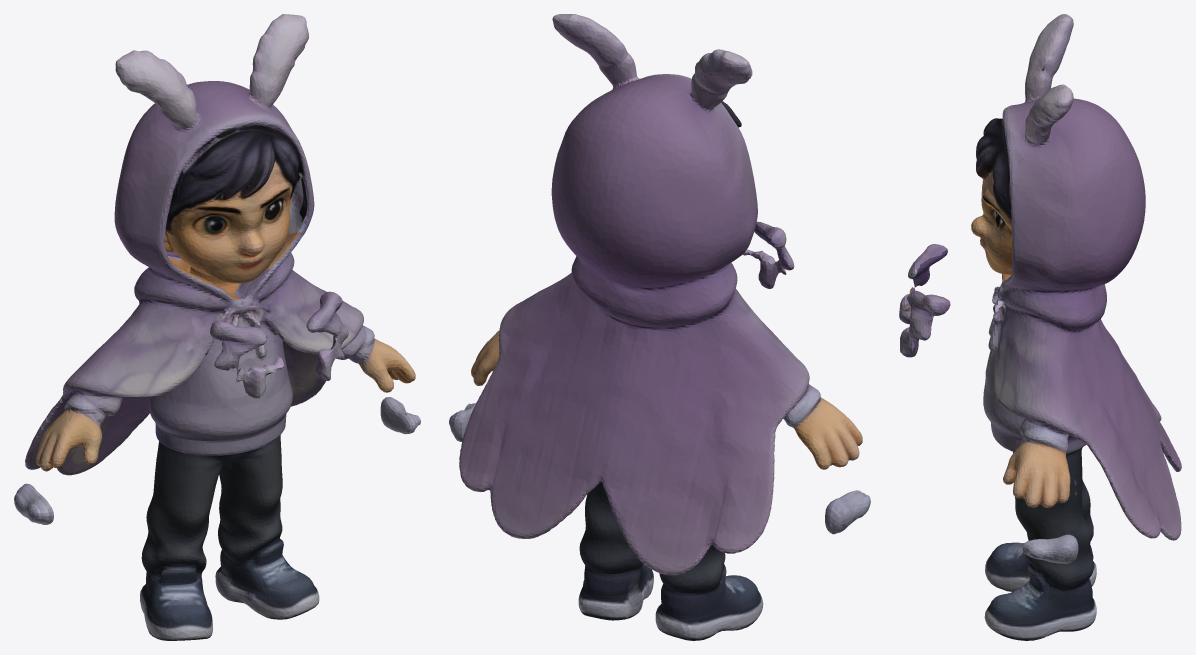
3 views of the same model, side by side, from view 1: azimuth 30°, elevation 25°; view 2: azimuth 150°, elevation 25°; view 3: azimuth 270°, elevation 25° (orthographic). The views are drawn at different scales.
Visible parts, largest first — view 1: tmp39hjy43e.ply; view 2: tmp39hjy43e.ply; view 3: tmp39hjy43e.ply.
Part boxes in pixels (box(x1,y1,x2,y2)): tmp39hjy43e.ply: box(14, 14, 420, 640); tmp39hjy43e.ply: box(449, 14, 870, 640); tmp39hjy43e.ply: box(899, 14, 1181, 640).
Size of the model in its own units: 1.4 by 1.97 by 0.9094.
1 material, 1 textured.
